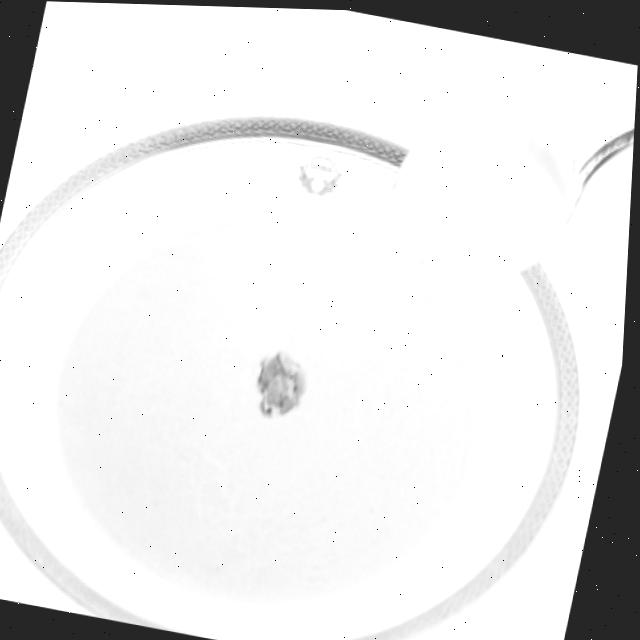汤锅炖物: (0, 61, 638, 640)
